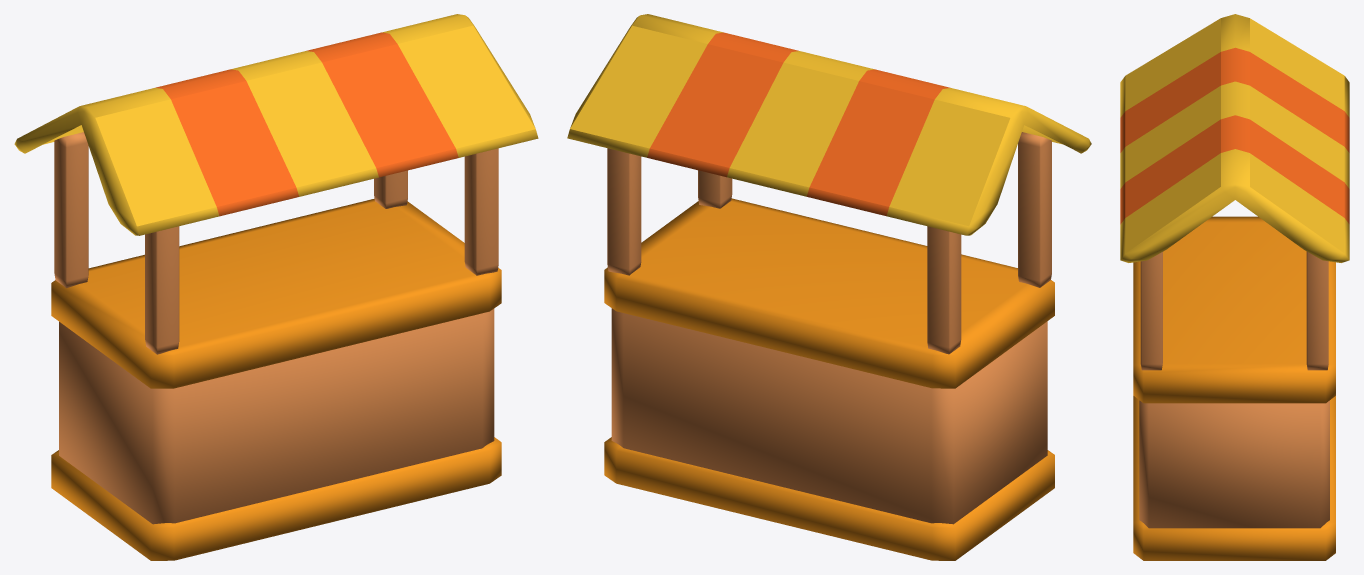
Rendered from budka.gltf.
3 views of the same model, side by side, from view 1: azimuth 30°, elevation 25°; view 2: azimuth 150°, elevation 25°; view 3: azimuth 270°, elevation 25° (orthographic). The views are drawn at different scales.
Parts seen in each view (by area): view 1: Plane.017, Cube.002, Cube.001, Cube, Cube.006; view 2: Plane.017, Cube.002, Cube.001, Cube, Cube.006; view 3: Plane.017, Cube.001, Cube.002, Cube, Cube.006.
Boxes of the visible parts, x1,y1,x2,y2 form: Plane.017: [14, 14, 538, 235]; Cube.002: [59, 309, 494, 524]; Cube.001: [51, 198, 501, 388]; Cube: [51, 437, 501, 560]; Cube.006: [54, 132, 498, 354]; Plane.017: [567, 14, 1091, 235]; Cube.002: [611, 308, 1047, 524]; Cube.001: [604, 198, 1054, 388]; Cube: [604, 437, 1054, 560]; Cube.006: [607, 132, 1051, 354]; Plane.017: [1120, 14, 1349, 262]; Cube.001: [1133, 216, 1335, 403]; Cube.002: [1139, 400, 1329, 528]; Cube: [1133, 396, 1335, 560]; Cube.006: [1140, 251, 1328, 370].
Bounding box in the file's own units: 6.72 × 6.59 × 3.55.
1 material, 1 textured.
